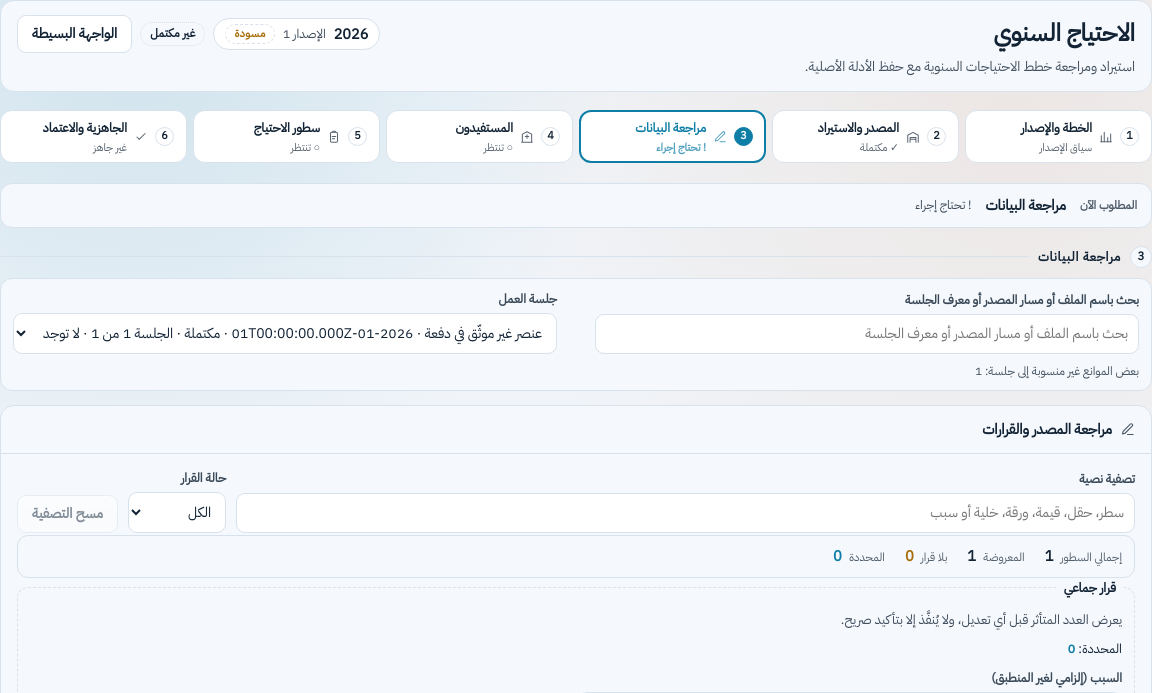
Test case: CentralNeedsScreen — Simple completes the workflow; Advanced survives as the secondary expert entry › opening the expert Advanced entry and returning to Simple issues NO read and replaces NO canonical state
Expected: the text with class "cn2b-revchip__plan" reads "2026", [334,23,368,45]
Click the button with test id "cn2b-mode-toggle". click: (75, 34)
box: [17,15,132,53]
(page scrolled)
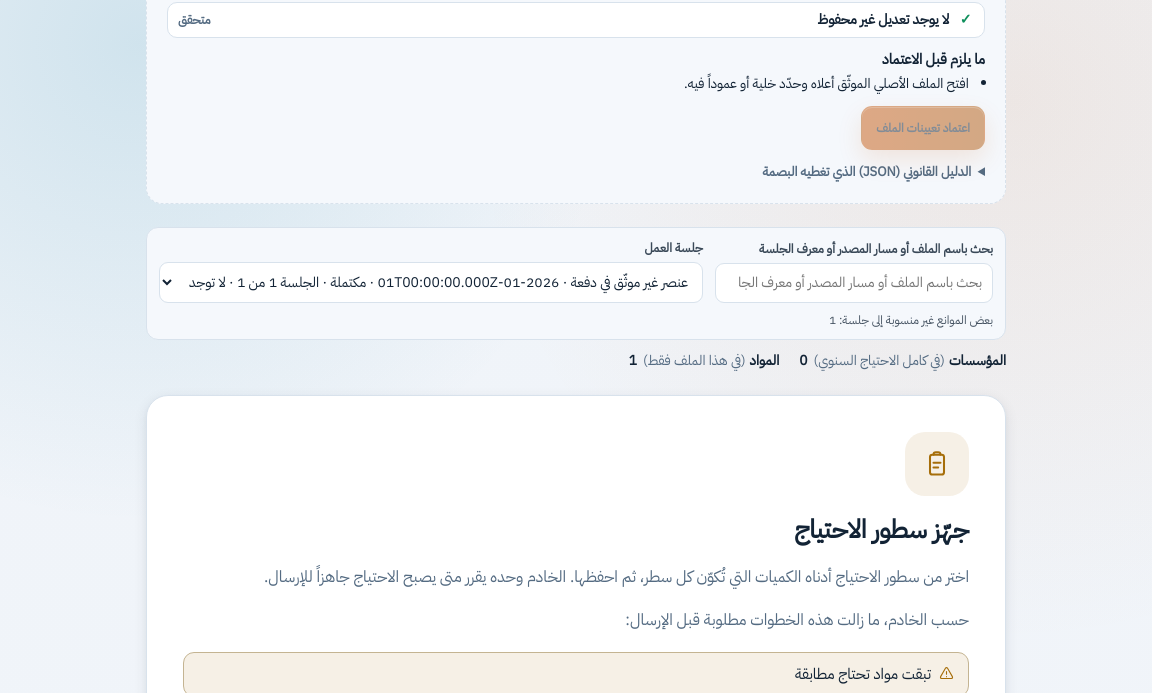
Expected: no elements with class "cn2b-stage" are shown
Expected: the text with test id "cn2b-simple-count-materials" reads "1", [629,350,637,371]
